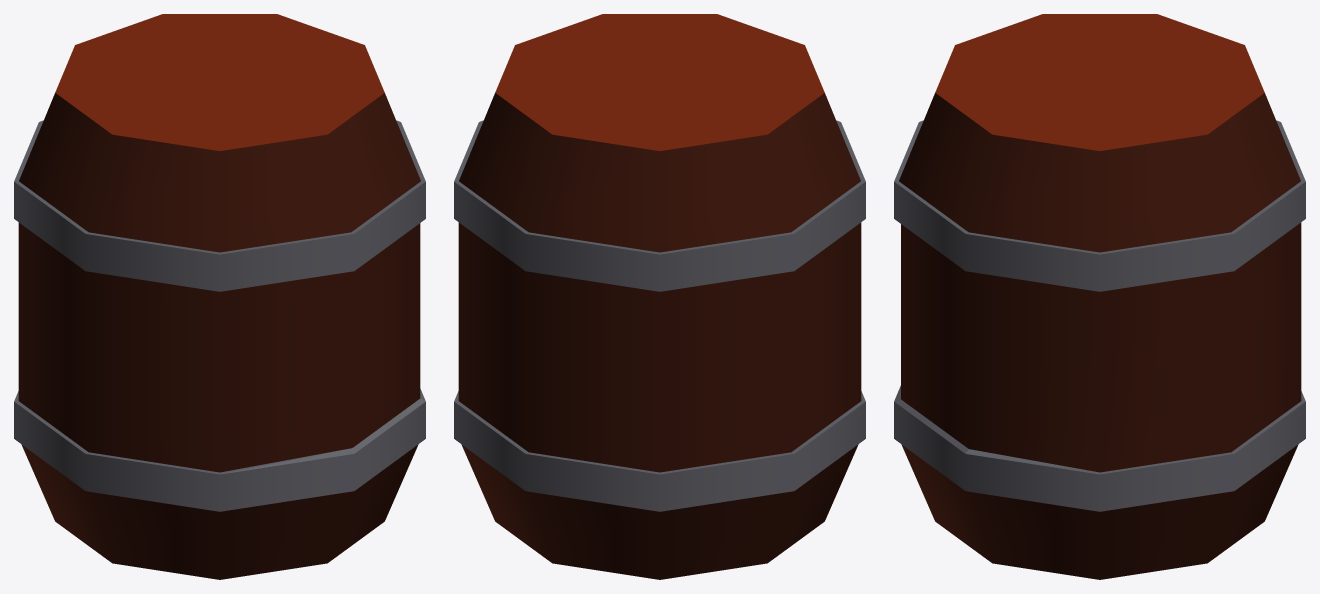
The model's file is beczka.FBX.
3 renders of one model, left to right at view 1: azimuth 30°, elevation 25°; view 2: azimuth 150°, elevation 25°; view 3: azimuth 270°, elevation 25°, orthographic.
Parts seen in each view (by area): view 1: Cylinder002; view 2: Cylinder002; view 3: Cylinder002.
Part boxes in pixels (x1,y1,x2,y2): Cylinder002: (14,14,425,579); Cylinder002: (454,14,865,579); Cylinder002: (894,14,1305,579).
Bounding box in the file's own units: 16.78 × 19.57 × 17.04.
